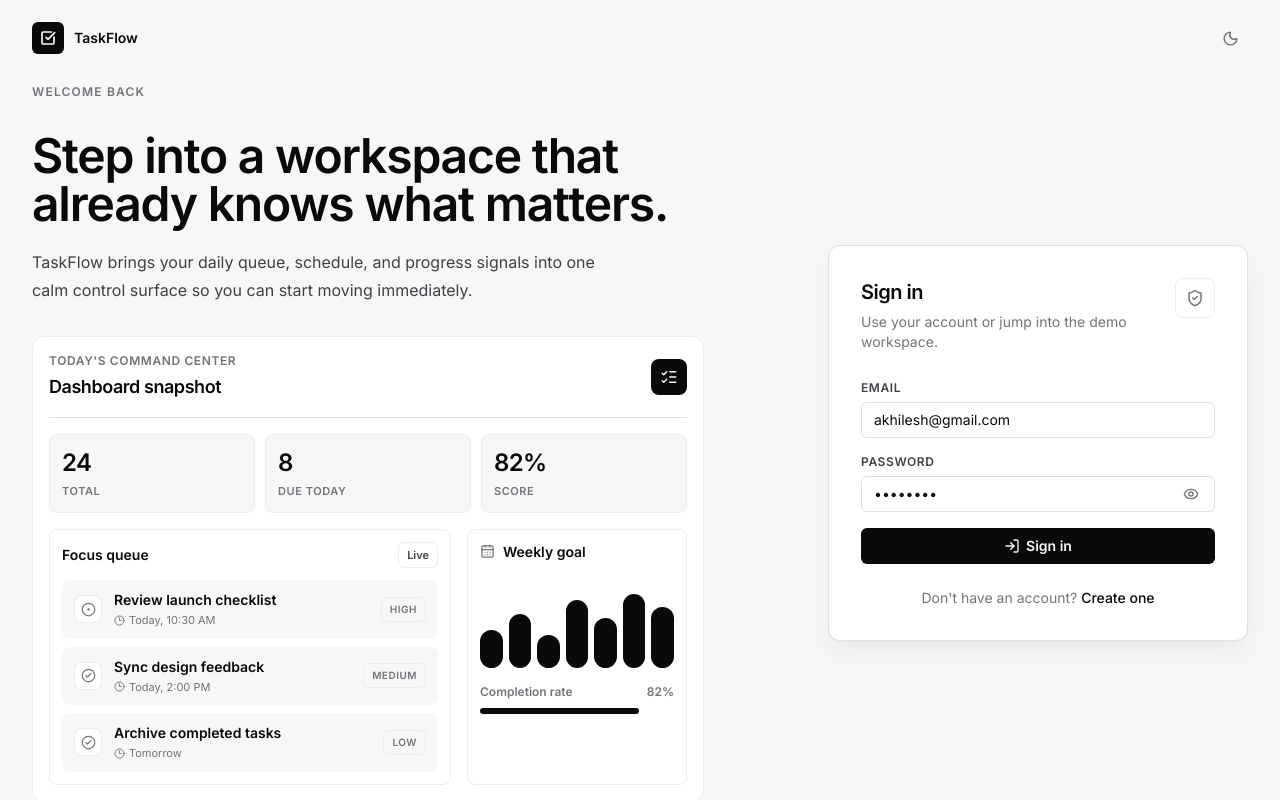
Test: Authentication & Profile Component Testing › LoginPage Component › toggles password visibility between text and password types
What coordinates should you click on to do the following:
click the button named "show password"
I would click on:
 (1191, 494)
Its box is x1=1177 y1=480 x2=1205 y2=508.
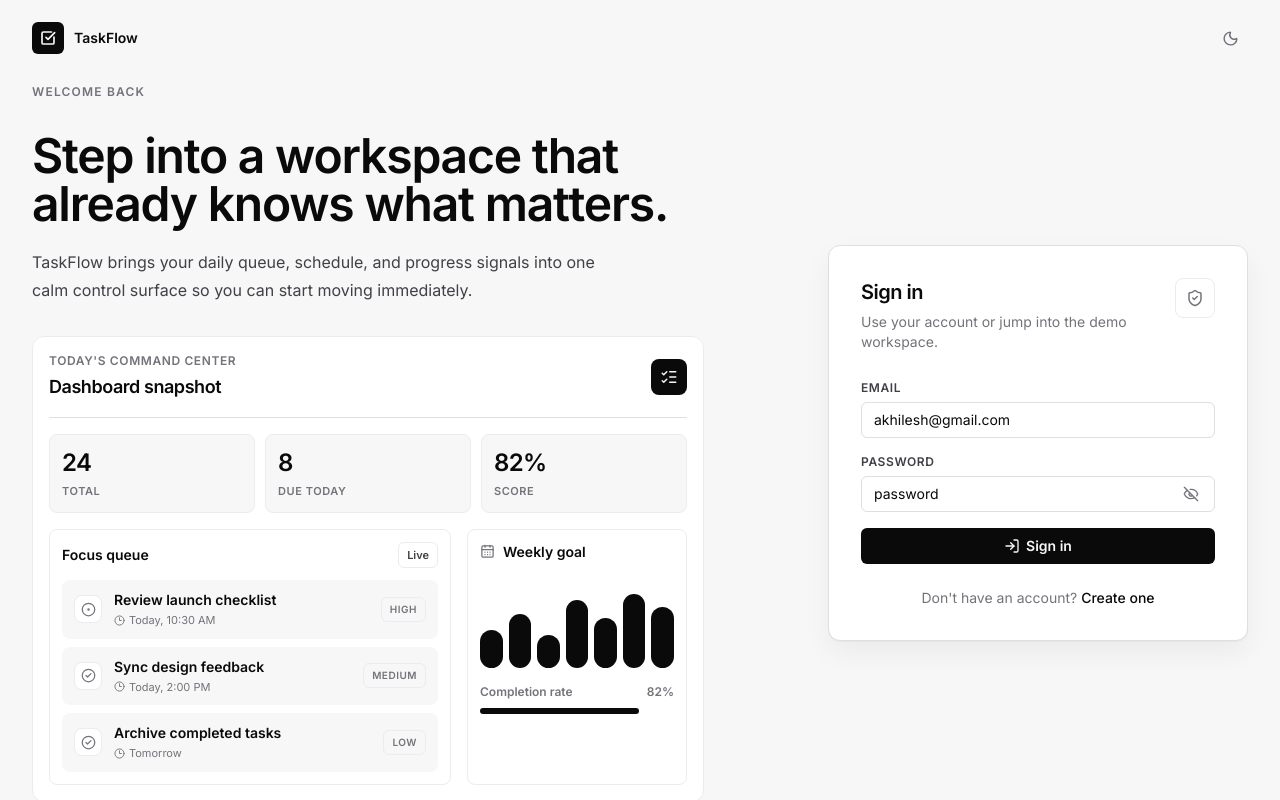
Expected: the field labelled "Password" shows its text, x1=861 y1=476 x2=1215 y2=512
Expected: the button named "hide password" is shown
What coordinates should you click on to do the following:
click the button named "hide password"
I would click on:
 (1191, 494)
Its box is x1=1177 y1=480 x2=1205 y2=508.
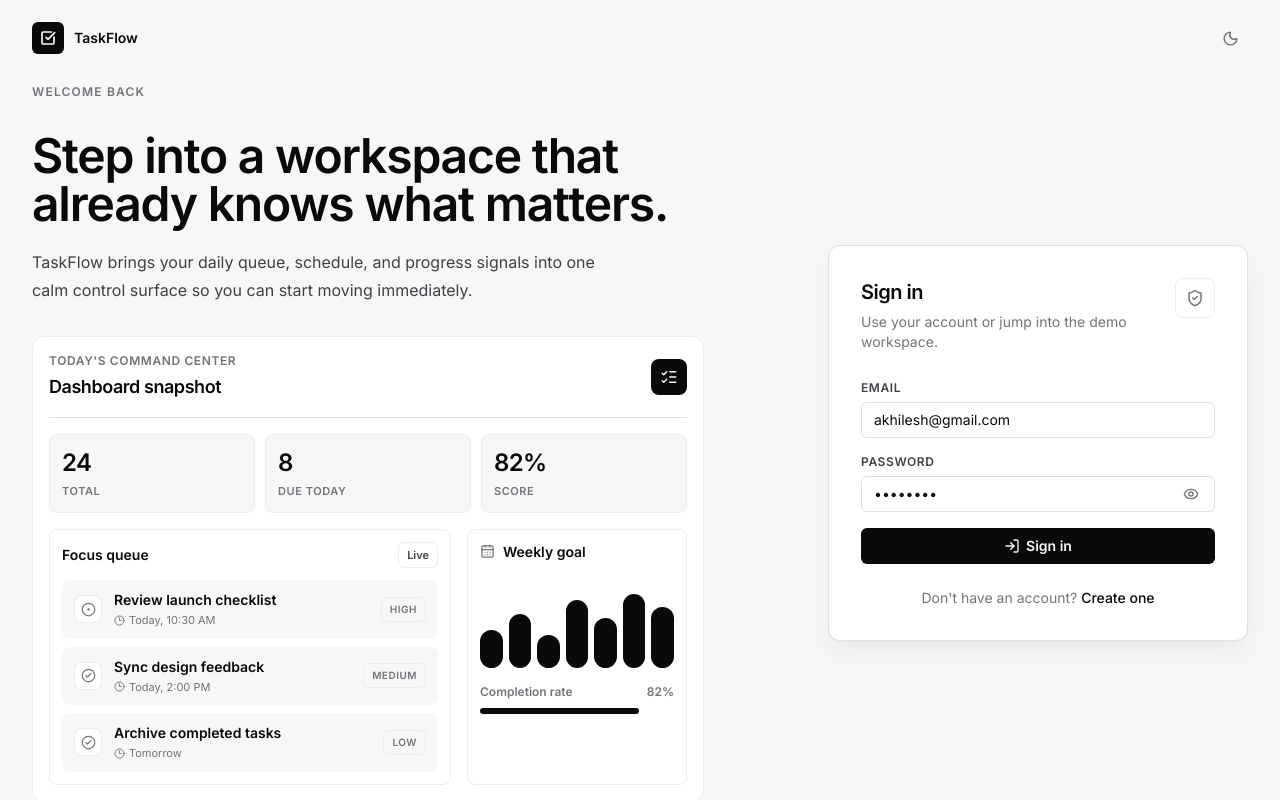
Expected: the password field labelled "Password" hides its text, x1=861 y1=476 x2=1215 y2=512
